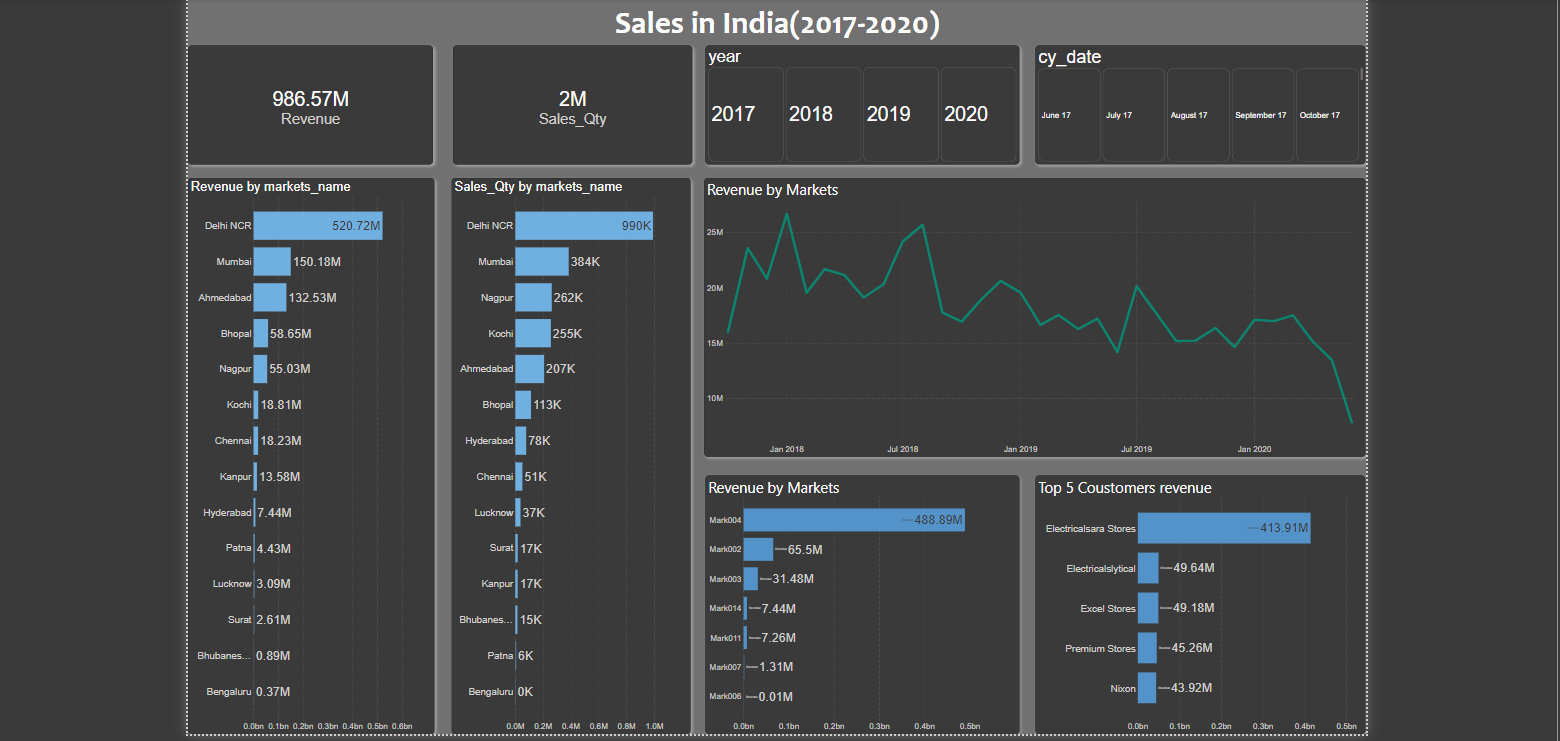

The dashboard page shown, as its layout file describes it:
{"tool":"powerbi","page":{"name":"Page 1","canvas":[4800,3000],"ordinal":0},"visuals":[{"type":"barChart","fields":{"Y":["edit_measure.Sales_Qty"],"Category":["sales markets.markets_name"]},"box":[1075.1,733.7,973.2,2267.3],"z":6000},{"type":"card","fields":{"Values":["edit_measure.Revenue"]},"box":[0,195,998.6,485.1],"z":9000},{"type":"card","fields":{"Values":["edit_measure.Sales_Qty"]},"box":[1079.5,195,974.9,485.1],"z":10000},{"type":"barChart","fields":{"Y":["edit_measure.Revenue"],"Category":["sales markets.markets_name"]},"box":[0,733.7,1003.7,2267.3],"z":11000},{"type":"advancedSlicerVisual","fields":{"Values":["sales date.year"]},"box":[2111.4,195,1279.2,485.1],"z":12000},{"type":"advancedSlicerVisual","fields":{"Values":["sales date.cy_date"]},"box":[3454.5,193.6,1345.1,484],"z":13000},{"type":"barChart","title":"Top 5 Coustomers revenue ","fields":{"Y":["edit_measure.Revenue"],"Category":["sales customers.custmer_name"]},"box":[3454.5,1946.3,1345.1,1054.7],"z":14000},{"type":"barChart","title":"Revenue by Markets","fields":{"Y":["edit_measure.Revenue"],"Category":["sales markets.markets_code"]},"box":[2109.4,1946.3,1278.9,1054.7],"z":15000},{"type":"lineChart","title":"Revenue by Markets","fields":{"Y":["edit_measure.Revenue"],"Category":["sales date.cy_date.Variation.Date Hierarchy.Year","sales date.cy_date.Variation.Date Hierarchy.Quarter","sales date.cy_date.Variation.Date Hierarchy.Month","sales date.cy_date.Variation.Date Hierarchy.Day"]},"box":[2104.3,733.7,2695.3,1136.2],"z":16000},{"type":"textbox","box":[4.8,0,4793.5,195],"z":17000}]}

Visuals, with their boxes in screenshot pixels (x1, y1, x2, y2):
barChart - edit_measure.Sales_Qty x sales markets.markets_name: (448, 174, 685, 725)
card - edit_measure.Revenue: (187, 43, 430, 161)
card - edit_measure.Sales_Qty: (449, 43, 686, 161)
barChart - edit_measure.Revenue x sales markets.markets_name: (187, 174, 431, 725)
advancedSlicerVisual - sales date.year: (700, 43, 1011, 161)
advancedSlicerVisual - sales date.cy_date: (1026, 43, 1353, 161)
"Top 5 Coustomers revenue " barChart: (1026, 469, 1353, 725)
"Revenue by Markets" barChart: (700, 469, 1010, 725)
"Revenue by Markets" lineChart: (698, 174, 1353, 450)
textbox: (188, 0, 1353, 43)
